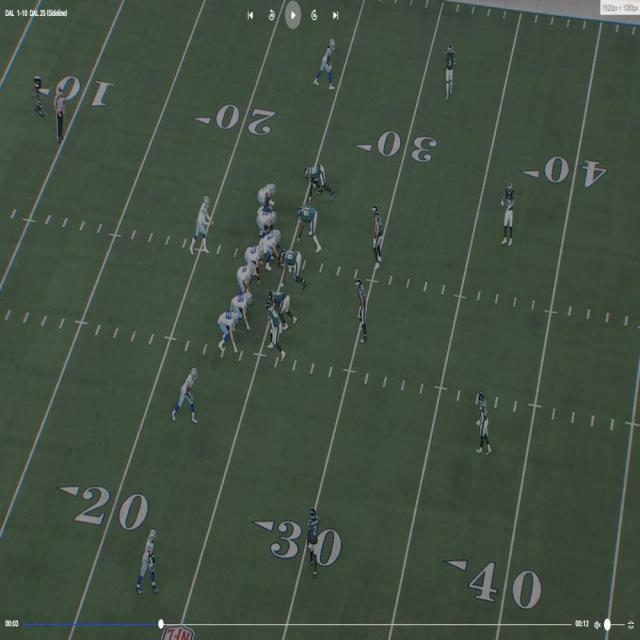center: (266, 230, 285, 268)
db: (306, 507, 321, 580), (502, 183, 515, 243), (478, 391, 490, 454), (446, 38, 457, 93)
lb: (265, 303, 283, 353), (355, 280, 366, 340), (371, 203, 380, 260)
qb: (197, 200, 212, 259)
skill: (175, 366, 197, 422), (139, 529, 158, 590), (318, 42, 337, 88), (222, 308, 238, 352), (237, 292, 253, 328)
